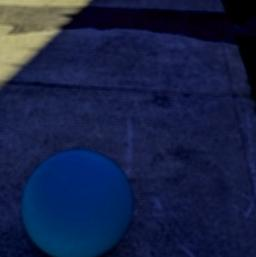algae: (20, 147, 132, 257)
